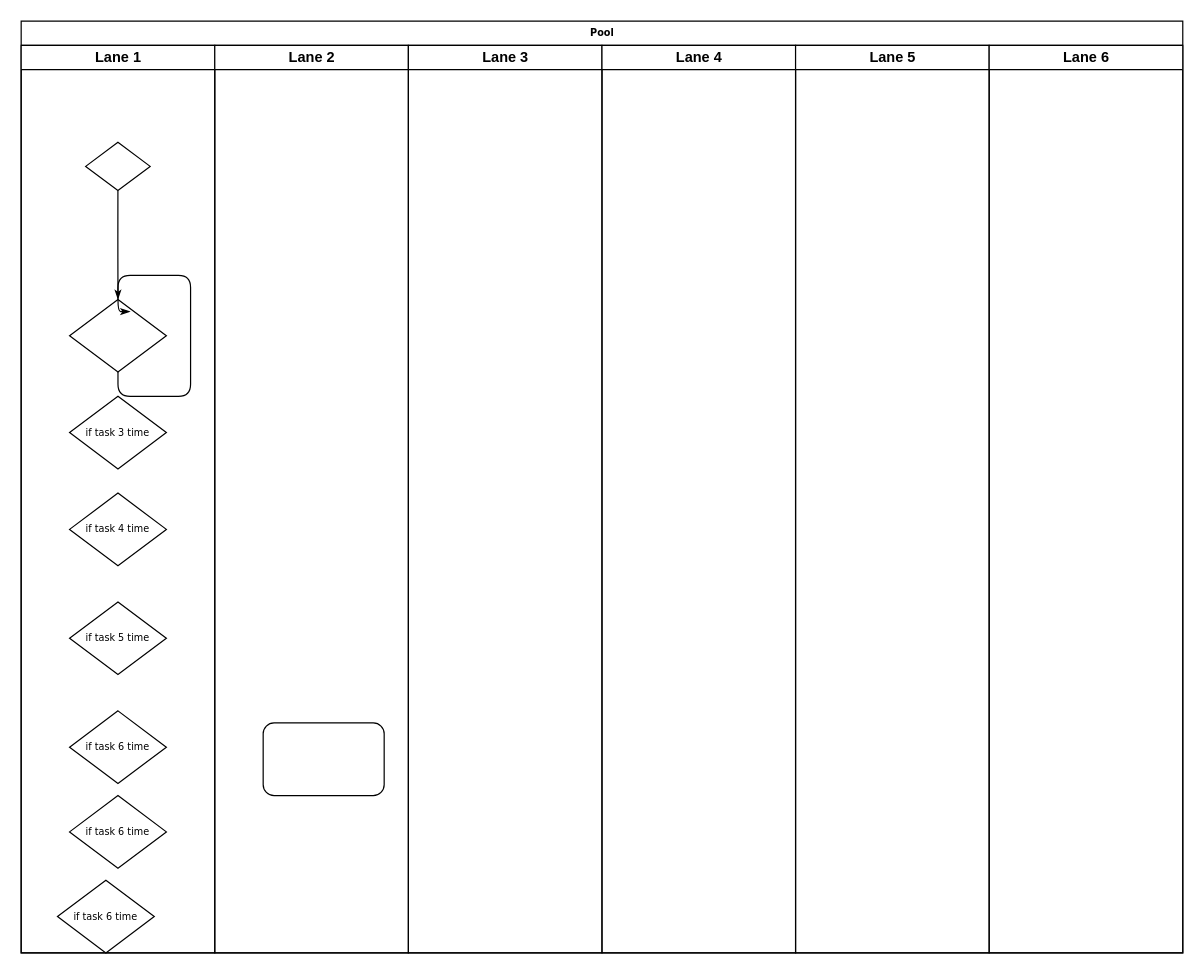
This 1204x974 diagram has some shape labels left out. Each missing label, with the centre of its shape:
if task 1 time: the point at 117,166
if task 2 time: the point at 117,335
